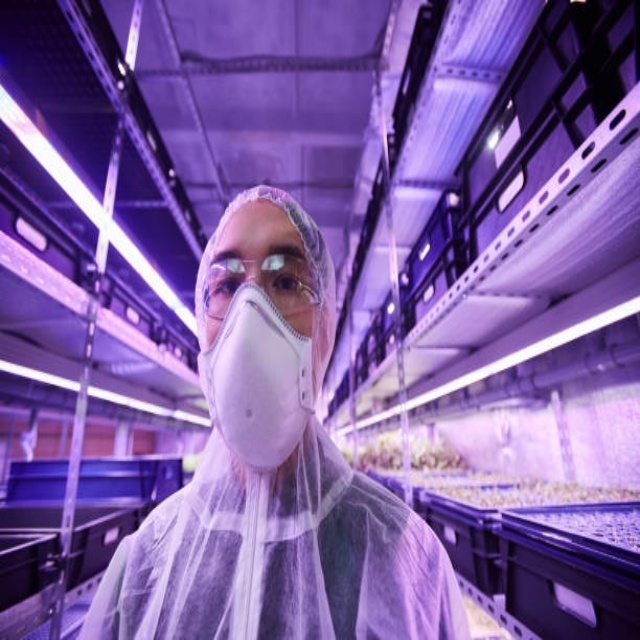Gafas: (202, 253, 323, 316)
Mascara: (201, 286, 316, 468)
